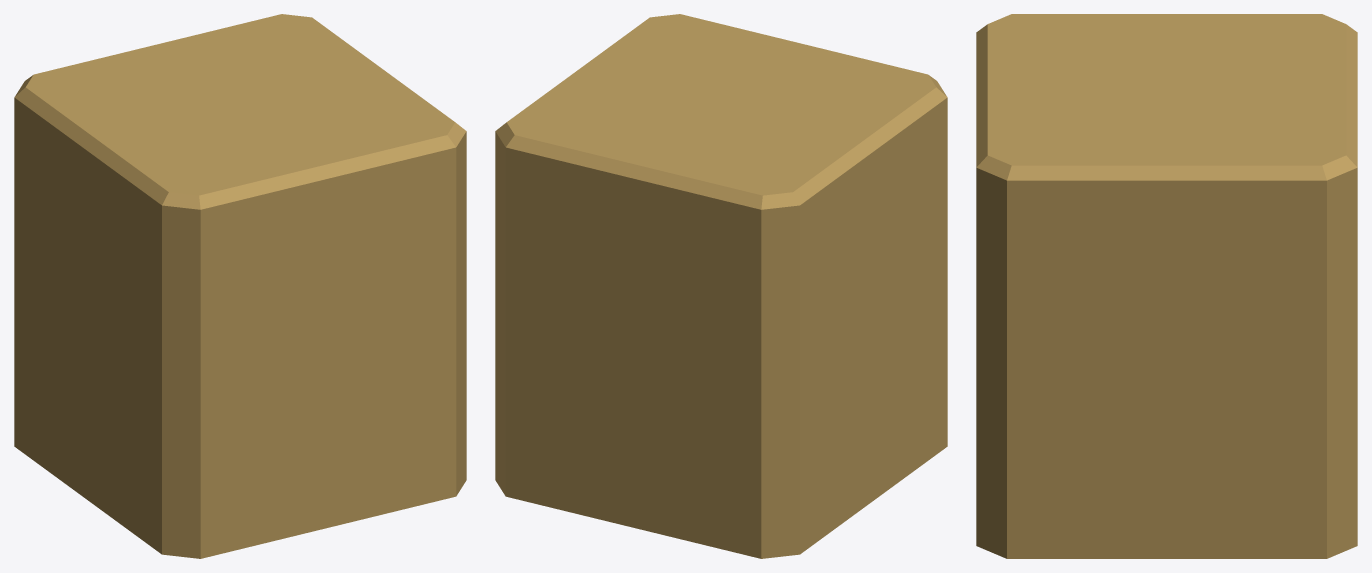
Rendered from CrateModel.fbx.
3 renders of one model, left to right at view 1: azimuth 30°, elevation 25°; view 2: azimuth 150°, elevation 25°; view 3: azimuth 270°, elevation 25°, orthographic. The views are drawn at different scales.
Visible parts, largest first — view 1: Box, Lid; view 2: Box, Lid; view 3: Box, Lid.
Part boxes in pixels (<box>): Box: <box>14,183,466,558</box>; Lid: <box>14,14,466,295</box>; Box: <box>495,183,947,558</box>; Lid: <box>495,14,947,295</box>; Box: <box>976,260,1357,558</box>; Lid: <box>976,14,1357,273</box>.
Size of the model in its own units: 0.8 by 0.9 by 0.8.
1 material, 1 textured.
